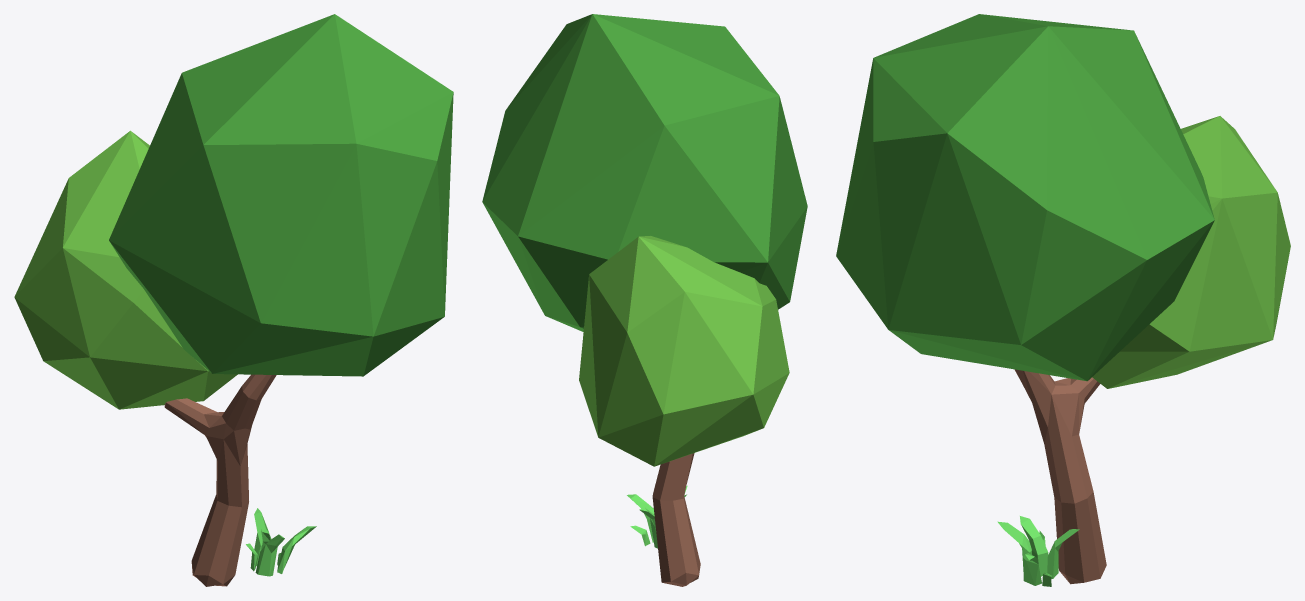
File: arbol2.glb
The picture shows the model from 3 angles, left to right: view 1: azimuth 30°, elevation 25°; view 2: azimuth 150°, elevation 25°; view 3: azimuth 270°, elevation 25°; orthographic projection. The views are drawn at different scales.
Parts seen in each view (by area): view 1: Object_8, Object_9, Object_7, Object_130; view 2: Object_8, Object_9, Object_7, Object_130; view 3: Object_8, Object_9, Object_7, Object_130.
Part boxes in pixels (<box>): Object_8: <box>109,14,453,376</box>; Object_9: <box>14,130,237,409</box>; Object_7: <box>164,374,276,586</box>; Object_130: <box>246,508,316,576</box>; Object_8: <box>482,14,807,331</box>; Object_9: <box>579,236,789,466</box>; Object_7: <box>652,453,700,586</box>; Object_130: <box>627,485,687,548</box>; Object_8: <box>836,14,1214,381</box>; Object_9: <box>1092,116,1290,388</box>; Object_7: <box>1014,369,1106,584</box>; Object_130: <box>997,516,1079,586</box>.
Bounding box in the file's own units: 2.16 × 3.42 × 2.31.
